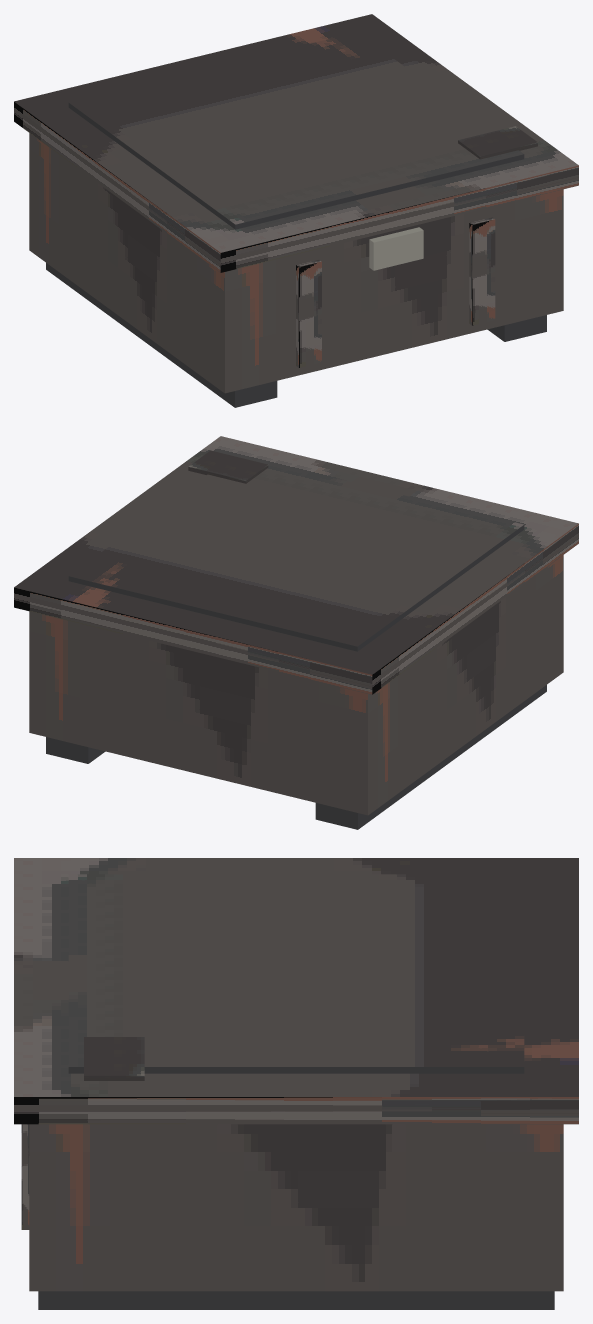
Rendered from Building_AncientSpacerCrate.glb.
3 renders of one model, top to bottom at view 1: azimuth 30°, elevation 25°; view 2: azimuth 150°, elevation 25°; view 3: azimuth 270°, elevation 25°, orthographic. The views are drawn at different scales.
Visible parts, largest first — view 1: AncientSpacerCrate; view 2: AncientSpacerCrate; view 3: AncientSpacerCrate.
Part boxes in pixels (<box>): AncientSpacerCrate: <box>14,14,578,407</box>; AncientSpacerCrate: <box>14,436,578,829</box>; AncientSpacerCrate: <box>14,858,578,1309</box>.
Size of the model in its own units: 1.86 by 0.87 by 1.86.
Materials: 1 (1 with a texture image).
